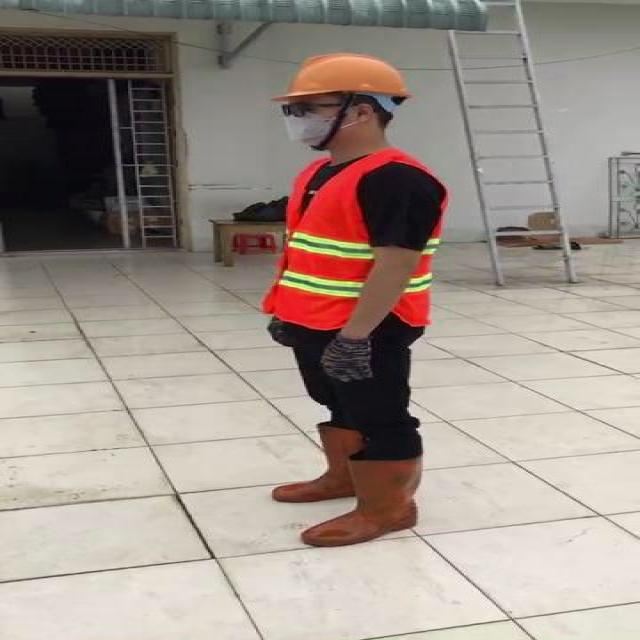boots: (263, 418, 400, 506), (302, 456, 423, 545)
face_mask: (276, 100, 362, 148)
glasses: (271, 95, 351, 121)
hand_glove: (315, 335, 384, 385)
head_helmet: (272, 50, 416, 104)
person: (238, 48, 464, 550)
vest: (258, 154, 452, 330)
